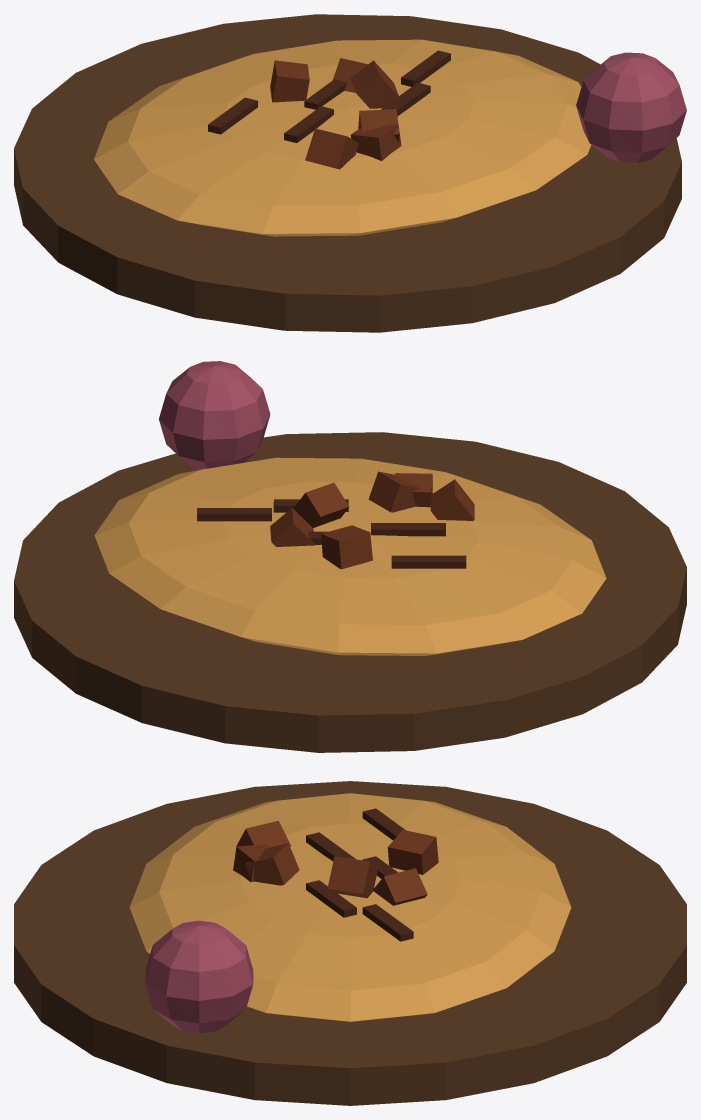
The model's file is VFP_Food_HeartyFlatbread.obj.
3 renders of one model, top to bottom at view 1: azimuth 30°, elevation 25°; view 2: azimuth 150°, elevation 25°; view 3: azimuth 270°, elevation 25°, orthographic.
Parts seen in each view (by area): view 1: Board, Bread, Onion, Chunks, Bread_patty; view 2: Board, Bread, Onion, Chunks, Bread_patty; view 3: Board, Bread, Onion, Chunks, Bread_patty.
Boxes of the visible parts, x1,y1,x2,y2 form: Board: (14,14,681,332); Bread: (94,39,591,236); Onion: (576,52,686,162); Chunks: (270,58,401,169); Bread_patty: (208,50,450,142); Board: (14,432,686,752); Bread: (94,457,606,655); Onion: (159,361,270,469); Chunks: (270,471,474,569); Bread_patty: (197,499,466,568); Board: (14,781,686,1105); Bread: (129,793,571,1021); Onion: (145,920,253,1033); Chunks: (233,820,438,905); Bread_patty: (306,808,413,941).
Bounding box in the file's own units: 0.36 × 0.082 × 0.3564.
